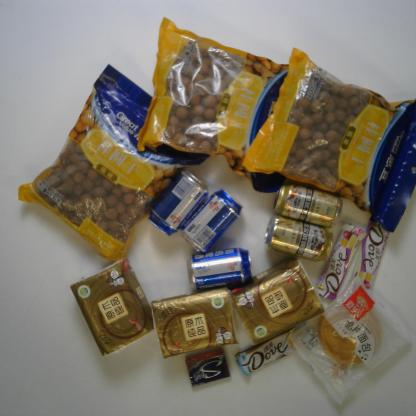Alcohol: (145, 167, 210, 239), (180, 186, 244, 258), (271, 181, 346, 230), (261, 213, 334, 262), (184, 246, 256, 295)
Chocolate: (234, 318, 321, 376), (314, 221, 367, 300), (349, 210, 396, 292)
Dessert: (288, 273, 414, 408)
Dried Food: (16, 62, 219, 270), (135, 11, 324, 194), (240, 47, 416, 231)
Gum: (183, 348, 232, 388)
Tissue: (68, 256, 159, 358), (229, 256, 326, 349), (150, 284, 243, 360)
